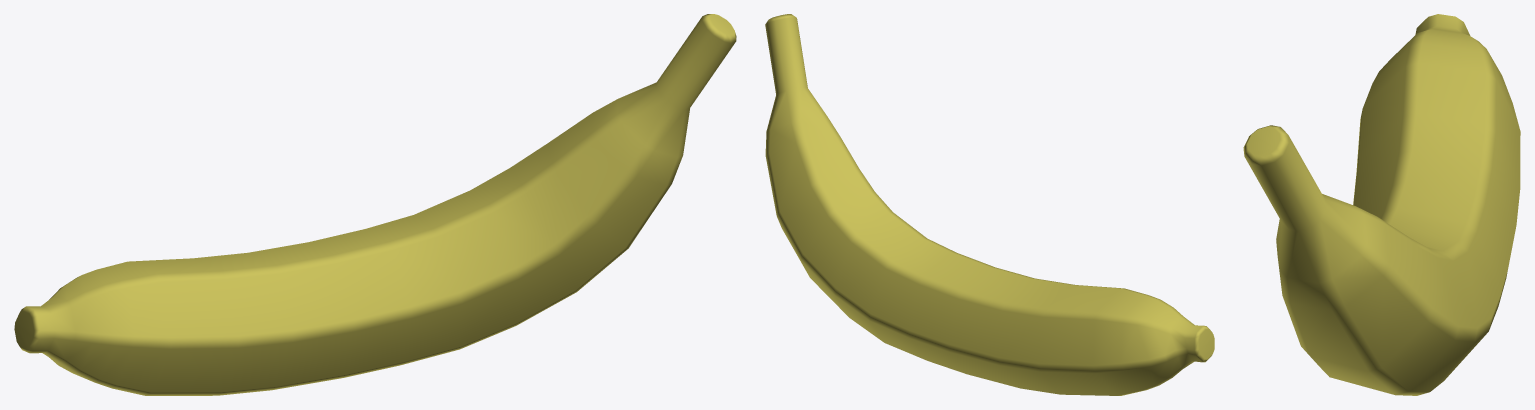
Rendered from banana.fbx.
3 renders of one model, left to right at view 1: azimuth 30°, elevation 25°; view 2: azimuth 150°, elevation 25°; view 3: azimuth 270°, elevation 25°, orthographic. The views are drawn at different scales.
Visible parts, largest first — view 1: banana; view 2: banana; view 3: banana.
Boxes of the visible parts, x1,y1,x2,y2 form: banana: (14,14,736,395); banana: (765,14,1214,395); banana: (1243,14,1520,395).
Size of what is drawn, in the model's own units: 23.59 by 7.61 by 11.54.
